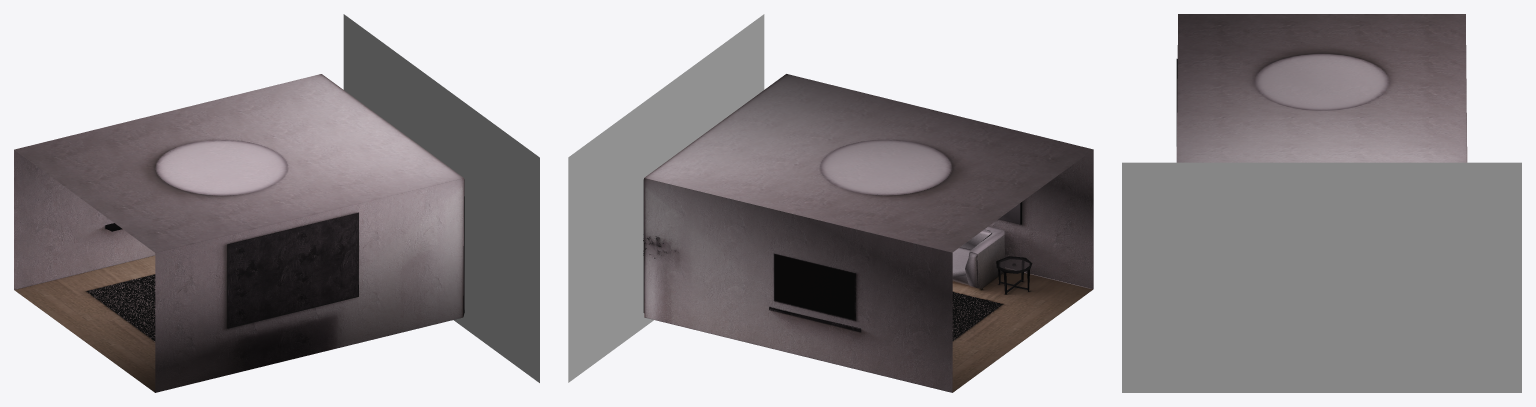
File: LivingRoom.fbx
The picture shows the model from 3 angles, left to right: view 1: azimuth 30°, elevation 25°; view 2: azimuth 150°, elevation 25°; view 3: azimuth 270°, elevation 25°; orthographic projection. The views are drawn at different scales.
Visible parts, largest first — view 1: Modern Living Room; view 2: Modern Living Room; view 3: Modern Living Room.
Boxes of the visible parts, x1,y1,x2,y2 form: Modern Living Room: (14, 14, 539, 392); Modern Living Room: (568, 14, 1093, 392); Modern Living Room: (1122, 14, 1521, 392).
Size of the model in its own units: 2250 by 1360 by 2140.
